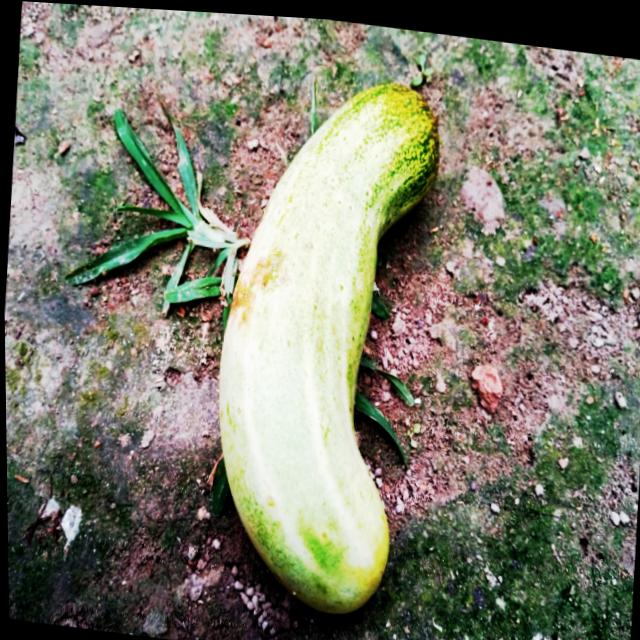Belly-Rot: (223, 241, 286, 343)
